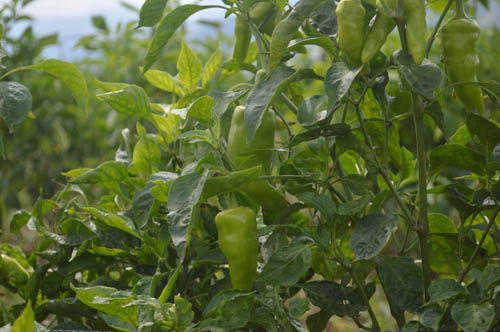ChiliPepper: (444, 17, 483, 105), (214, 207, 257, 283), (229, 104, 272, 166), (366, 7, 393, 73), (399, 8, 426, 66), (334, 5, 364, 55)
